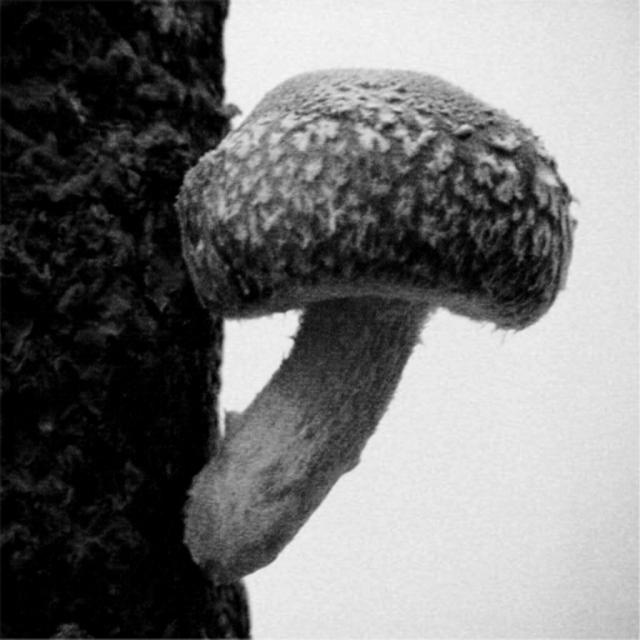Mushroom: (145, 71, 617, 608)
